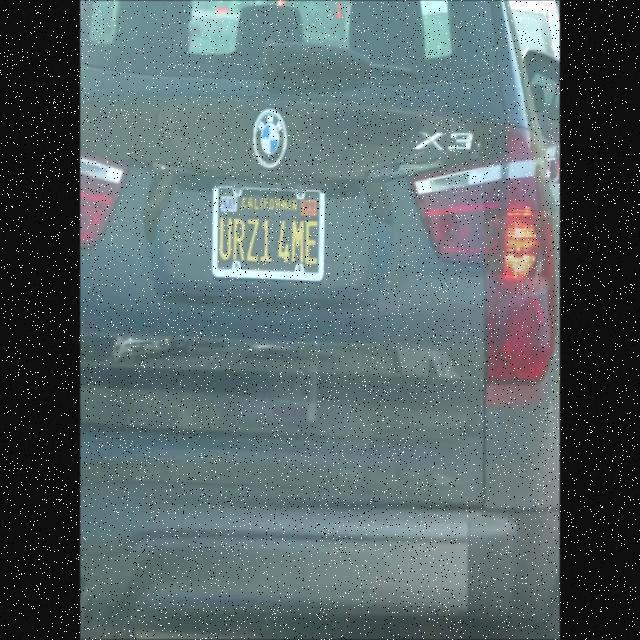license_plate: (214, 182, 322, 282)
